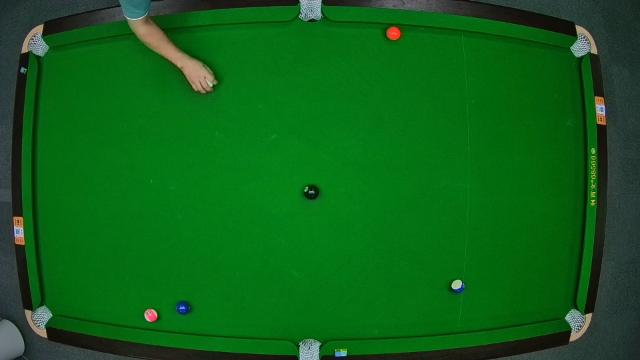bag1: (27, 34, 45, 54)
bag2: (298, 0, 322, 20)
bag3: (571, 36, 593, 58)
bag4: (32, 308, 52, 328)
bag5: (300, 340, 320, 360)
bag6: (566, 311, 586, 331)
ball10: (451, 279, 465, 293)
ball12: (144, 308, 158, 324)
ball2: (178, 300, 192, 316)
ball5: (386, 26, 402, 42)
ball8: (304, 184, 320, 200)
